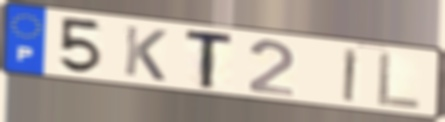2: (245, 37, 299, 99)
5: (56, 15, 107, 76)
I: (341, 46, 361, 104)
K: (121, 23, 170, 84)
L: (374, 49, 423, 111)
T: (183, 30, 237, 91)
